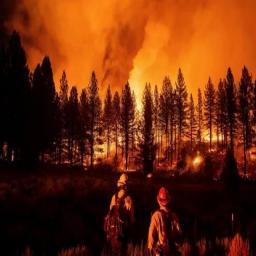Heavy smoke: (46, 0, 256, 168)
Medium fire: (56, 98, 256, 152)
